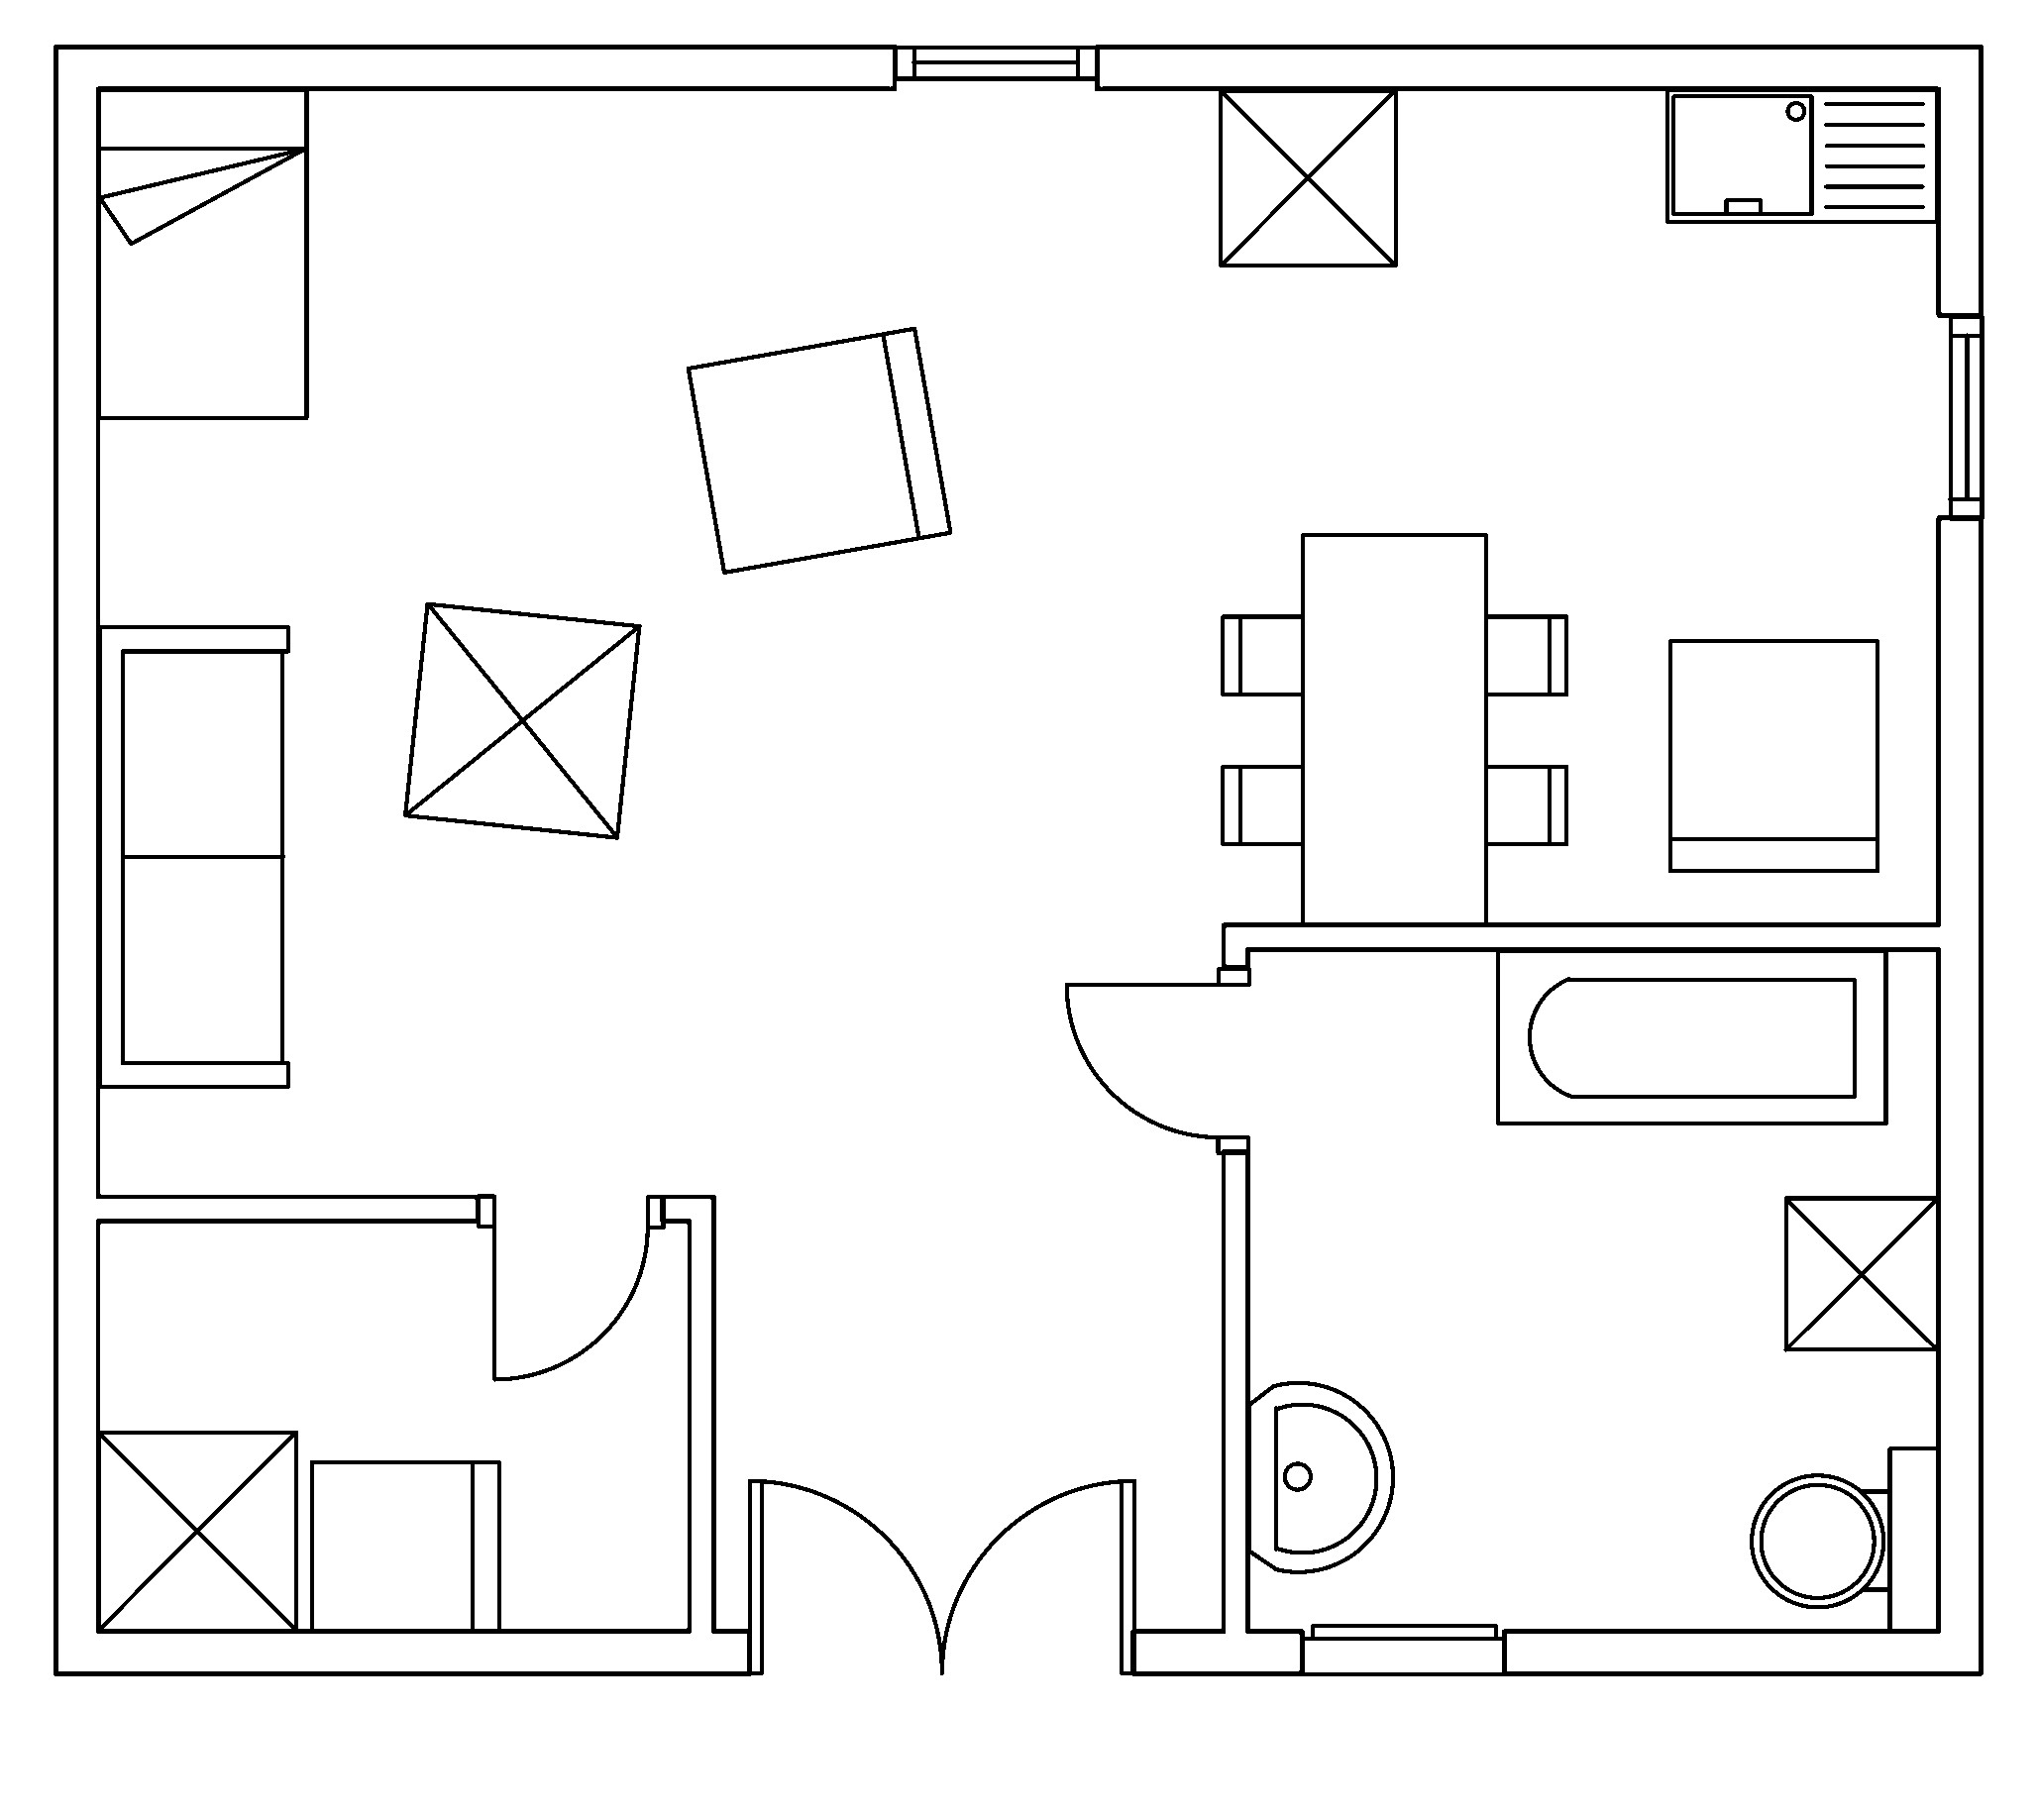bed: (95, 86, 309, 420)
coffee_table: (402, 601, 643, 840), (95, 1428, 299, 1632), (1217, 86, 1398, 267), (1781, 1195, 1940, 1353)
dining_table: (1219, 531, 1568, 926)
large_sink: (1749, 1444, 1940, 1632)
large_sofa: (97, 624, 290, 1089)
sink: (1663, 86, 1940, 223)
small_sink: (1245, 1381, 1394, 1572)
small_sofa: (685, 325, 954, 574), (1666, 638, 1879, 873), (307, 1458, 500, 1632)
tub: (1494, 947, 1888, 1126)
